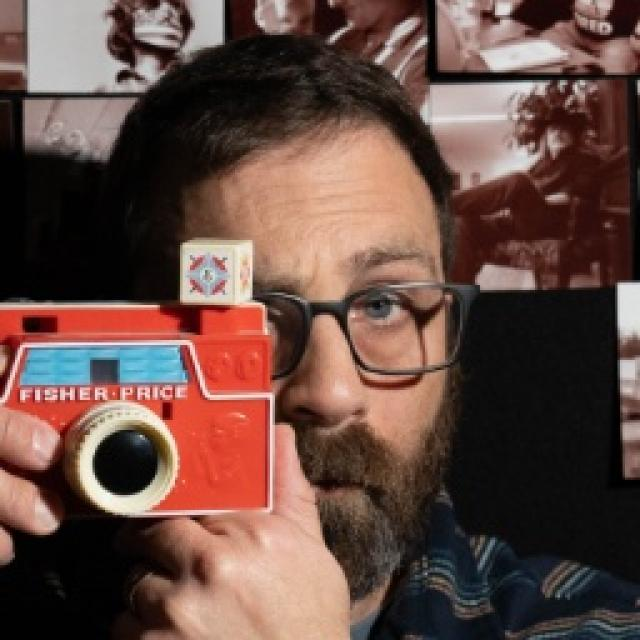glasses: (262, 273, 487, 391)
